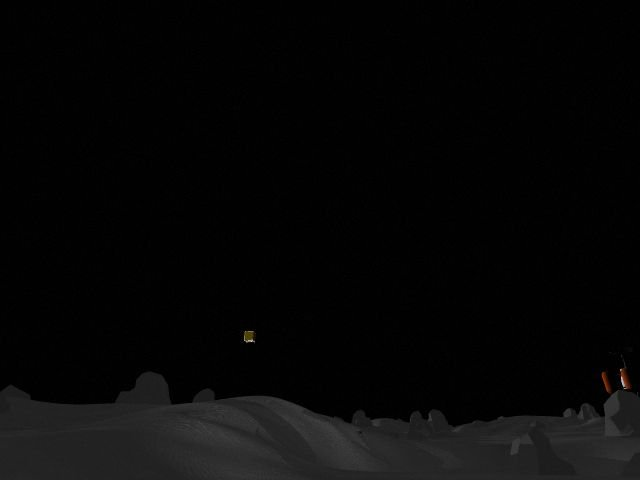cubesat: (241, 327, 258, 346)
